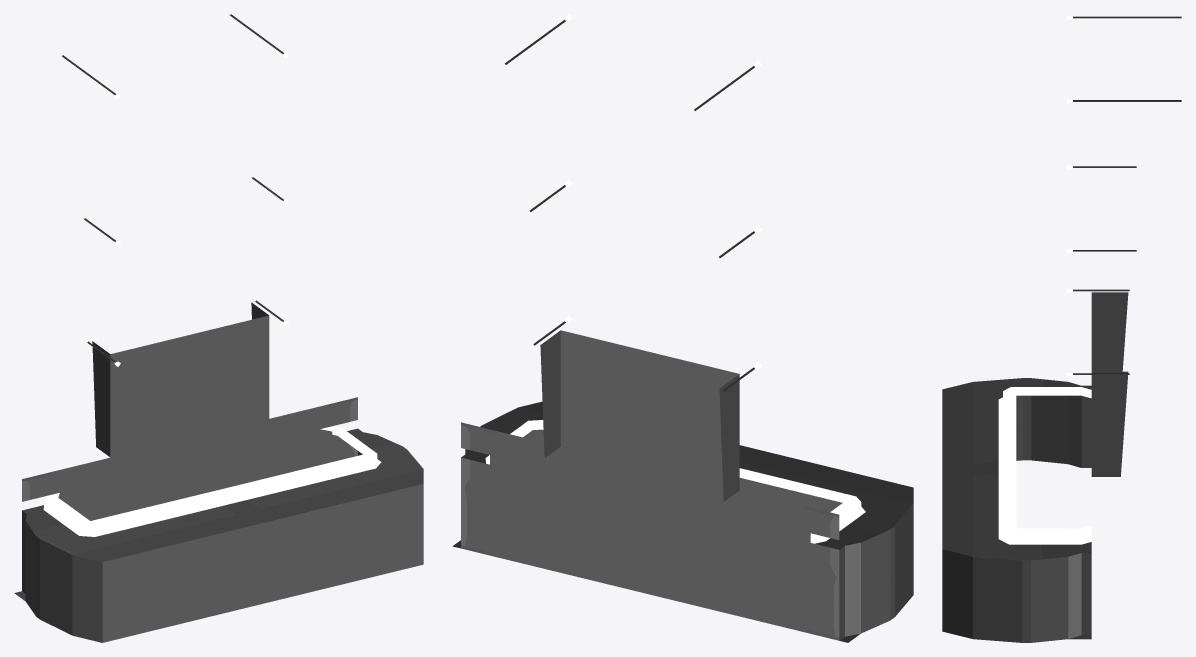
3 renders of one model, left to right at view 1: azimuth 30°, elevation 25°; view 2: azimuth 150°, elevation 25°; view 3: azimuth 270°, elevation 25°, orthographic. The views are drawn at different scales.
Parts seen in each view (by area): view 1: group_13, group_25; view 2: group_13, group_25; view 3: group_13, group_25.
Part boxes in pixels (x1,y1,x2,y2): group_13: [14, 14, 423, 642]; group_25: [43, 52, 381, 536]; group_13: [452, 19, 913, 642]; group_25: [485, 14, 865, 543]; group_13: [942, 16, 1181, 642]; group_25: [998, 16, 1091, 544].
Size of the model in its own units: 14034 by 17775 by 7772.
2 materials, 2 textured.
